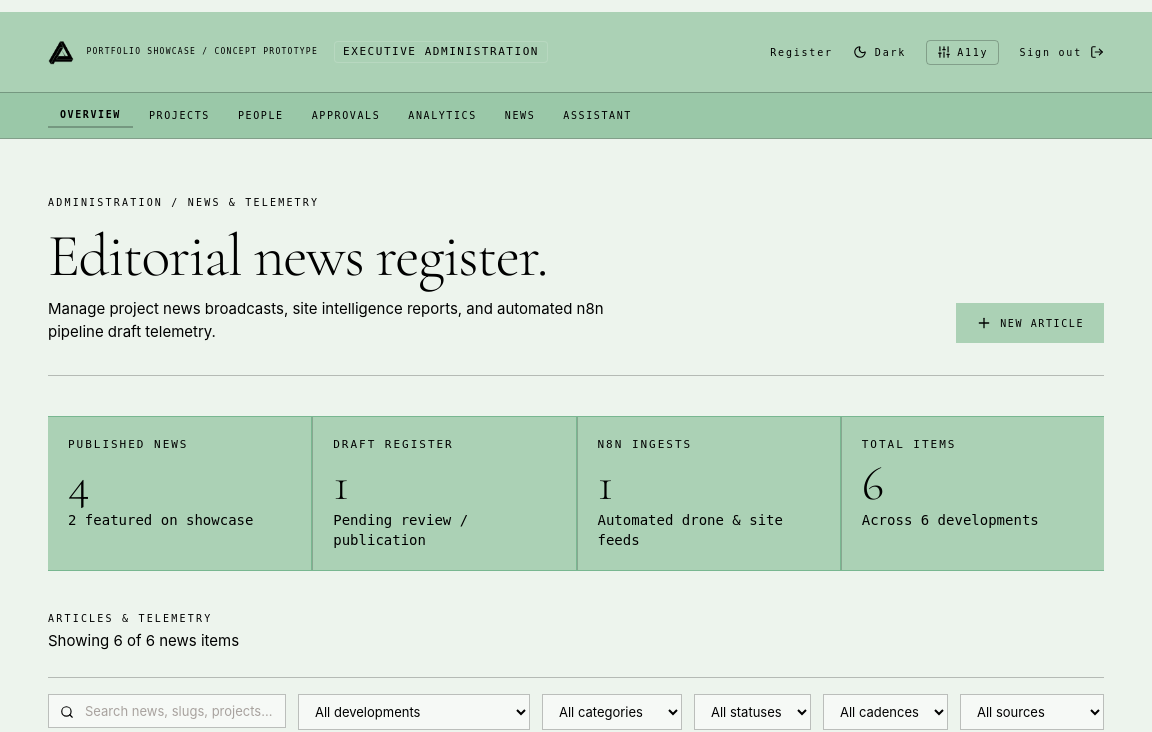
AdminNewsPage UI and Management › filters articles by search input
The width and height of the screenshot is (1152, 732).
Type "Drone Telemetry" into the field labelled "Search news, slugs, projects..." at (167, 711), box x1=48 y1=694 x2=286 y2=728
(page scrolled)
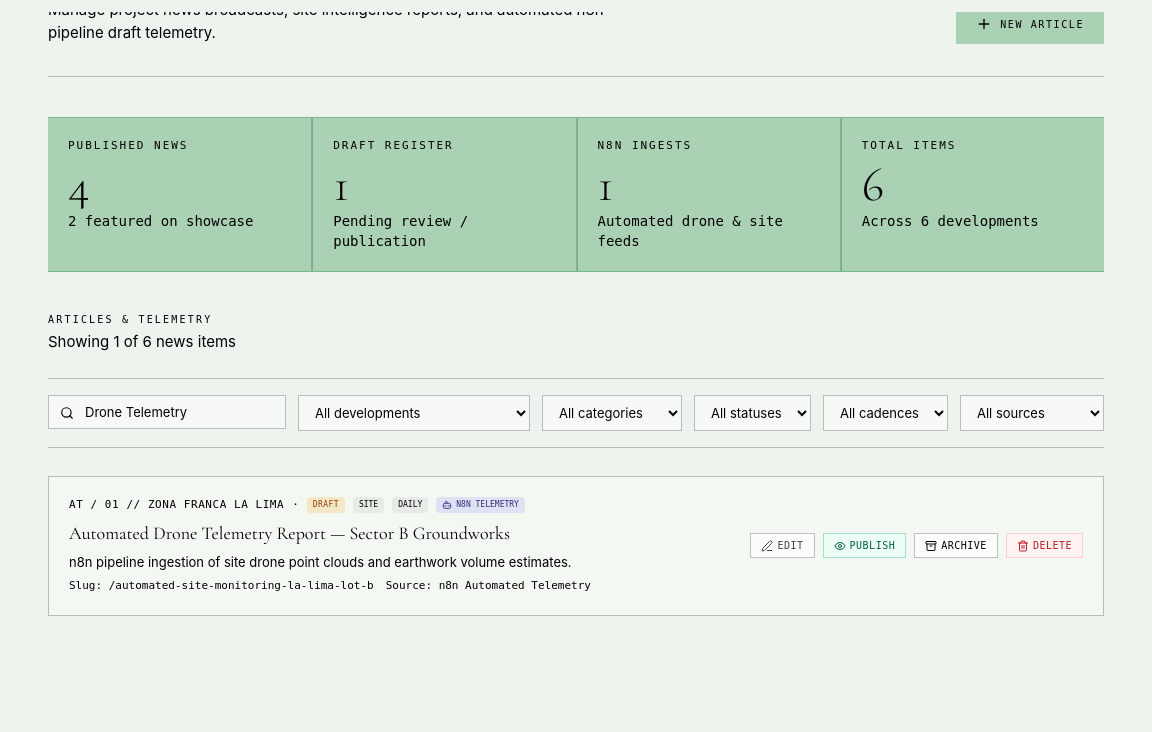
Expected: the heading "Automated Drone Telemetry Report — Sector B Groundworks" is shown, x1=69 y1=522 x2=510 y2=544
